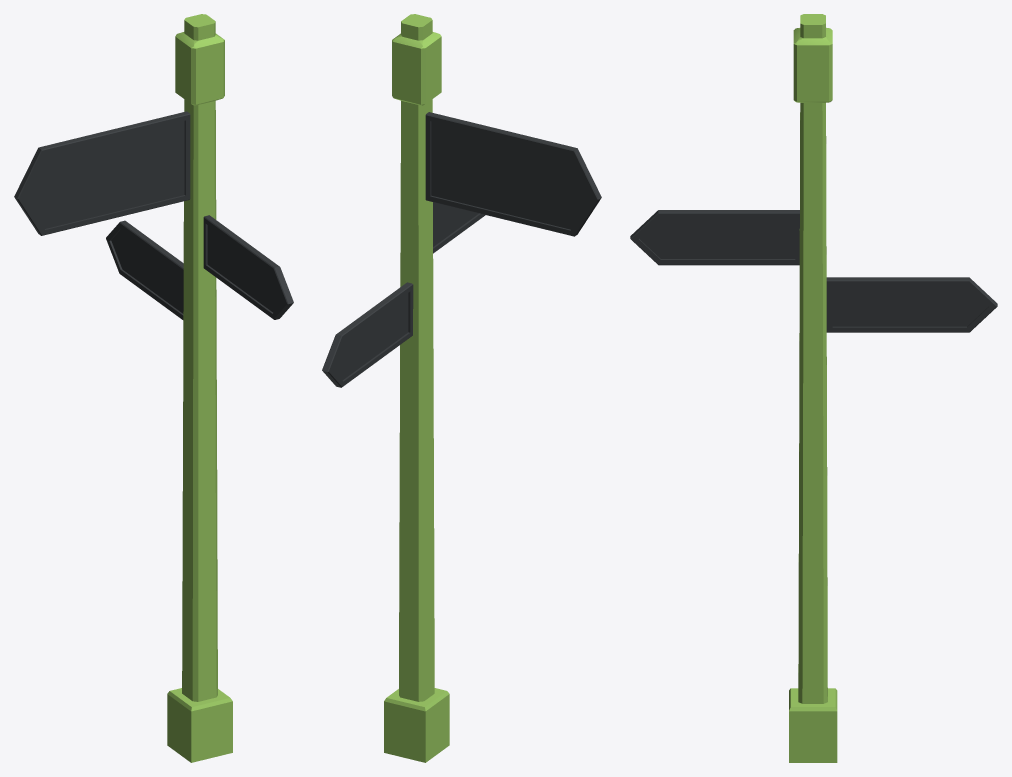
The model's file is streetsign_a.gltf.
3 renders of one model, left to right at view 1: azimuth 30°, elevation 25°; view 2: azimuth 150°, elevation 25°; view 3: azimuth 270°, elevation 25°, orthographic.
Parts seen in each view (by area): view 1: streetsign_a001; view 2: streetsign_a001; view 3: streetsign_a001.
Part boxes in pixels (bbox=[...]): streetsign_a001: bbox=[14, 14, 293, 762]; streetsign_a001: bbox=[322, 14, 601, 762]; streetsign_a001: bbox=[630, 14, 997, 762].
Bounding box in the file's own units: 0.5649 × 1.92 × 0.8721.
1 material, 1 textured.
